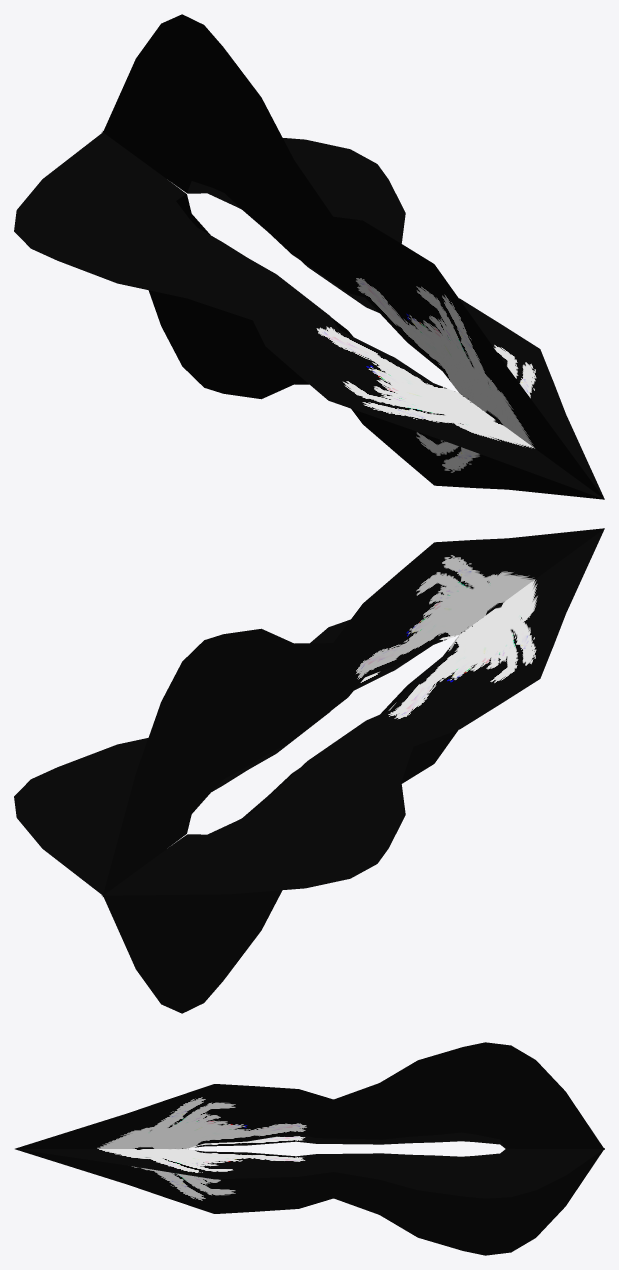
Rendered from zhufudatianshichangmao003.fbx.
3 views of the same model, one above another, from view 1: azimuth 30°, elevation 25°; view 2: azimuth 150°, elevation 25°; view 3: azimuth 270°, elevation 25° (orthographic). The views are drawn at different scales.
Visible parts, largest first — view 1: zhufudatianshichangmao003; view 2: zhufudatianshichangmao003; view 3: zhufudatianshichangmao003.
Part boxes in pixels (box(x1,y1,x2,y2)): zhufudatianshichangmao003: box(14, 14, 604, 499); zhufudatianshichangmao003: box(14, 528, 604, 1013); zhufudatianshichangmao003: box(15, 1042, 604, 1255).
Bounding box in the file's own units: 270 × 270 × 677.
